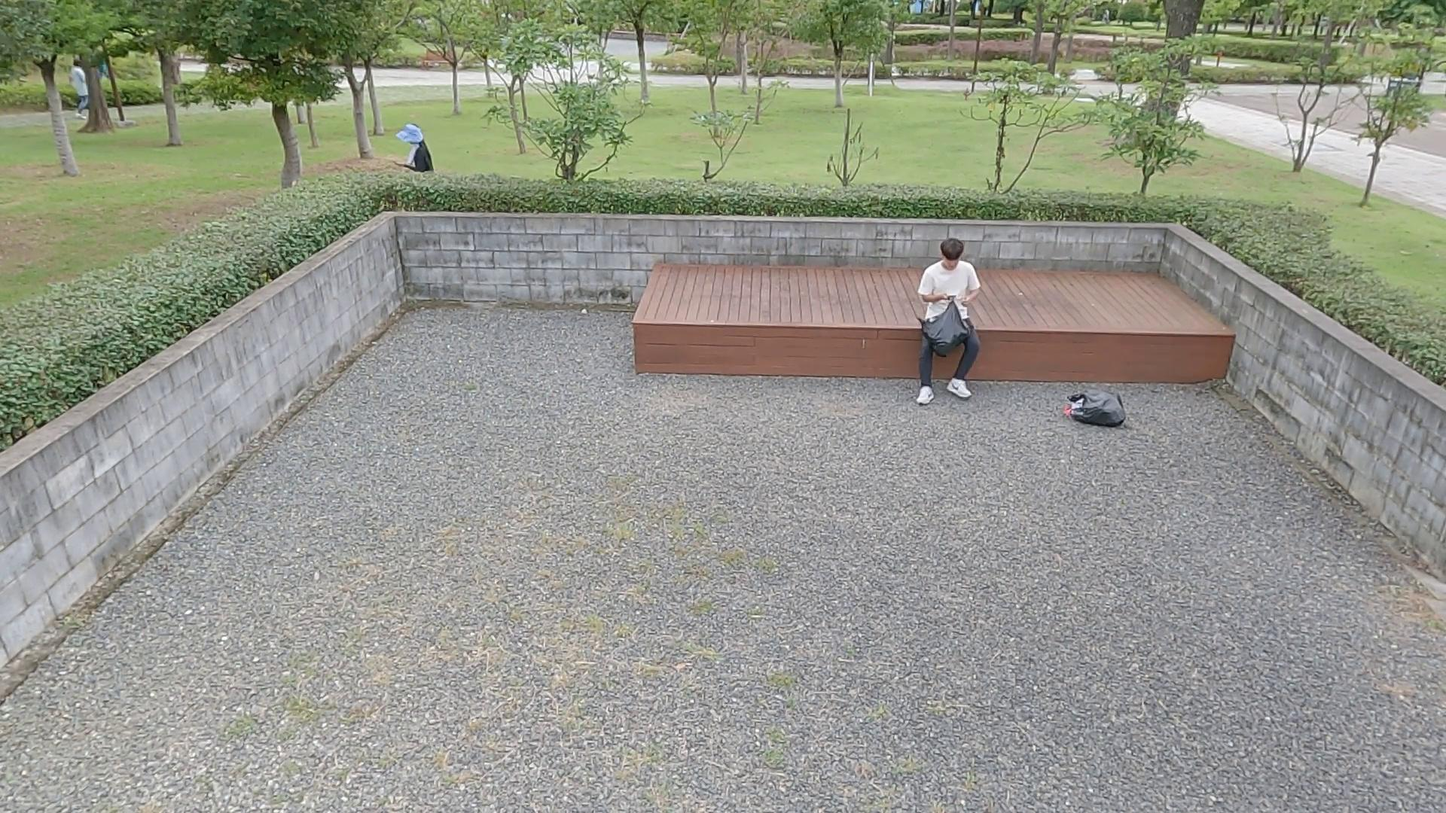person: (912, 239, 983, 407), (392, 117, 436, 176), (68, 57, 102, 121)
trash: (909, 293, 978, 354), (1060, 380, 1127, 435)
